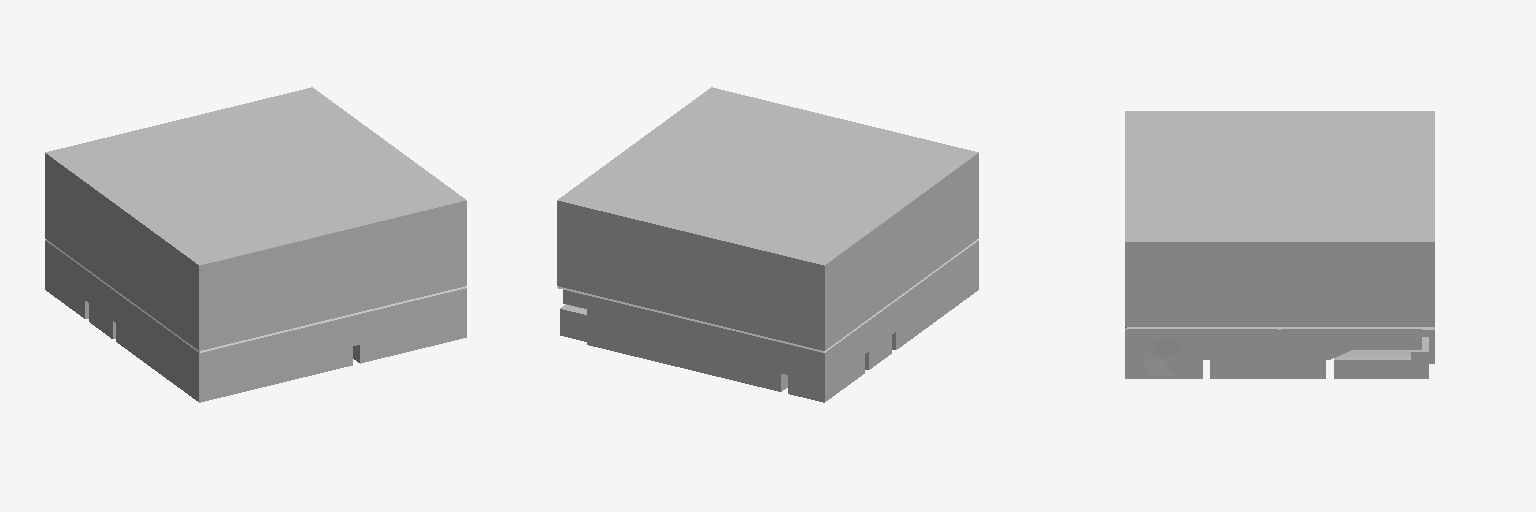
The model's file is Game Well Maze.obj.
3 renders of one model, left to right at view 1: azimuth 30°, elevation 25°; view 2: azimuth 150°, elevation 25°; view 3: azimuth 270°, elevation 25°, orthographic.
Parts seen in each view (by area): view 1: Mesh_0027; view 2: Mesh_0027; view 3: Mesh_0027.
Boxes of the visible parts, x1=… form: Mesh_0027: x1=45, y1=87, x2=466, y2=402; Mesh_0027: x1=557, y1=87, x2=978, y2=402; Mesh_0027: x1=1125, y1=111, x2=1434, y2=378.
Size of the model in its own units: 128 by 72.7 by 128.